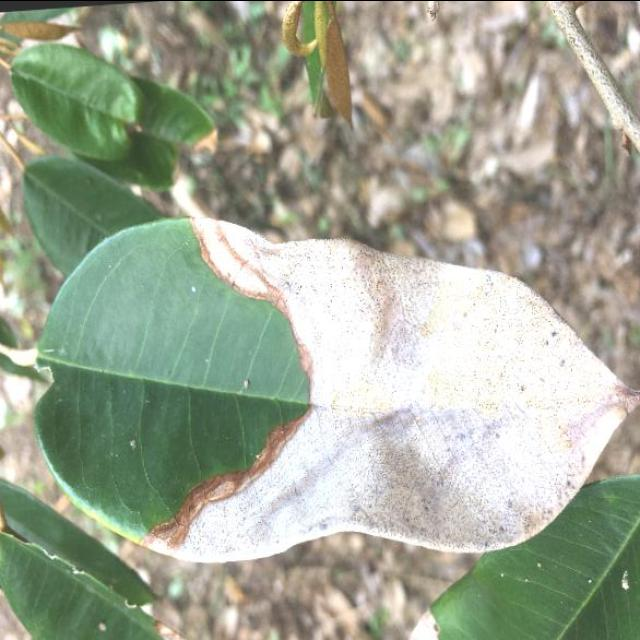Leaf Blight: (14, 175, 640, 588)
